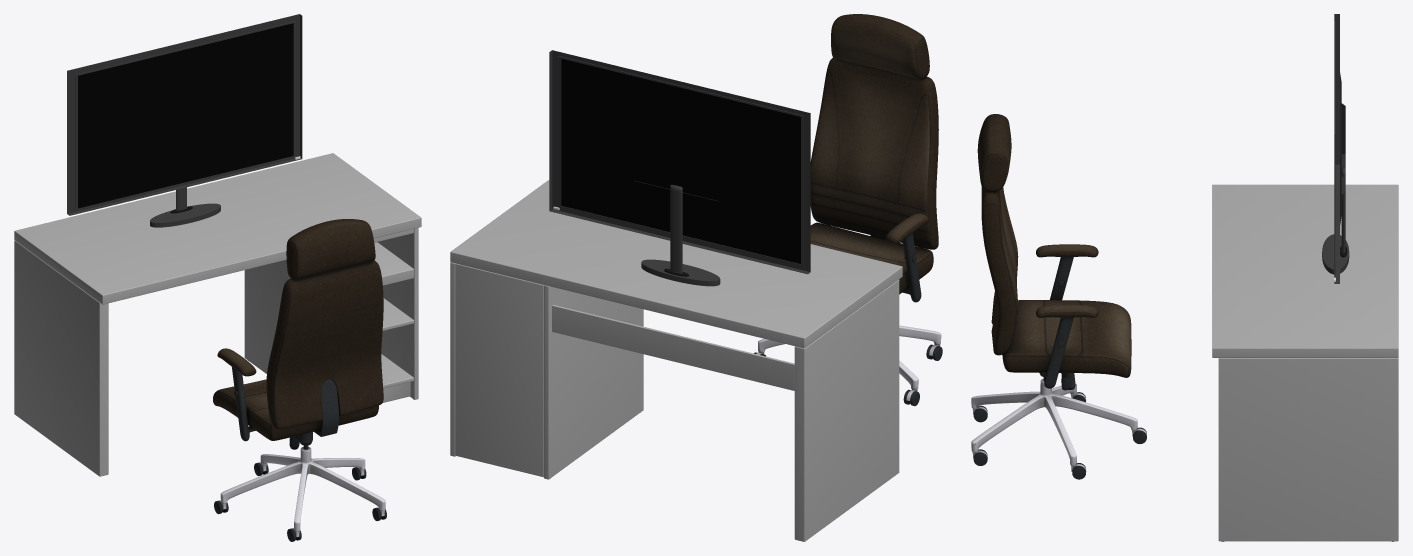
File: ROB_work_station.dae
3 views of the same model, side by side, from view 1: azimuth 30°, elevation 25°; view 2: azimuth 150°, elevation 25°; view 3: azimuth 270°, elevation 25° (orthographic). The views are drawn at different scales.
Parts seen in each view (by area): view 1: 10239_Office_Chair_v1_L3.020; view 2: 10239_Office_Chair_v1_L3.020; view 3: 10239_Office_Chair_v1_L3.020.
Part boxes in pixels (x1,y1,x2,y2): 10239_Office_Chair_v1_L3.020: [14, 14, 421, 541]; 10239_Office_Chair_v1_L3.020: [450, 14, 942, 541]; 10239_Office_Chair_v1_L3.020: [971, 14, 1398, 541].
Bounding box in the file's own units: 1.4 × 1.54 × 1.5.
7 materials, 1 textured.
